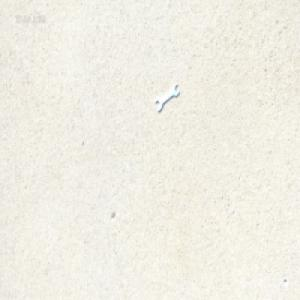Wrench: (155, 82, 179, 112)
